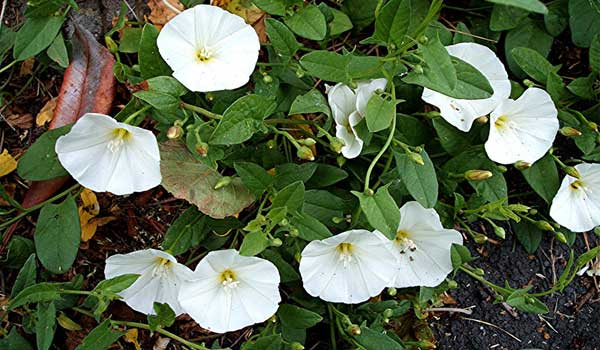bindweed: (154, 4, 261, 94), (51, 111, 164, 196), (178, 246, 283, 333), (418, 41, 511, 133), (372, 201, 463, 289), (297, 229, 397, 306), (102, 247, 196, 319), (483, 87, 561, 165), (324, 77, 387, 161), (548, 160, 600, 233)
